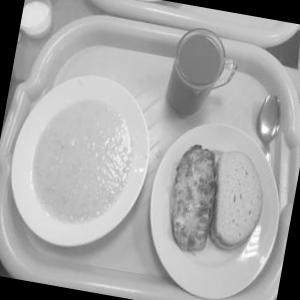bread: (203, 142, 265, 255)
cheese_sandwich: (148, 127, 235, 264)
coffee: (159, 19, 238, 126)
porridge: (3, 79, 146, 242)
